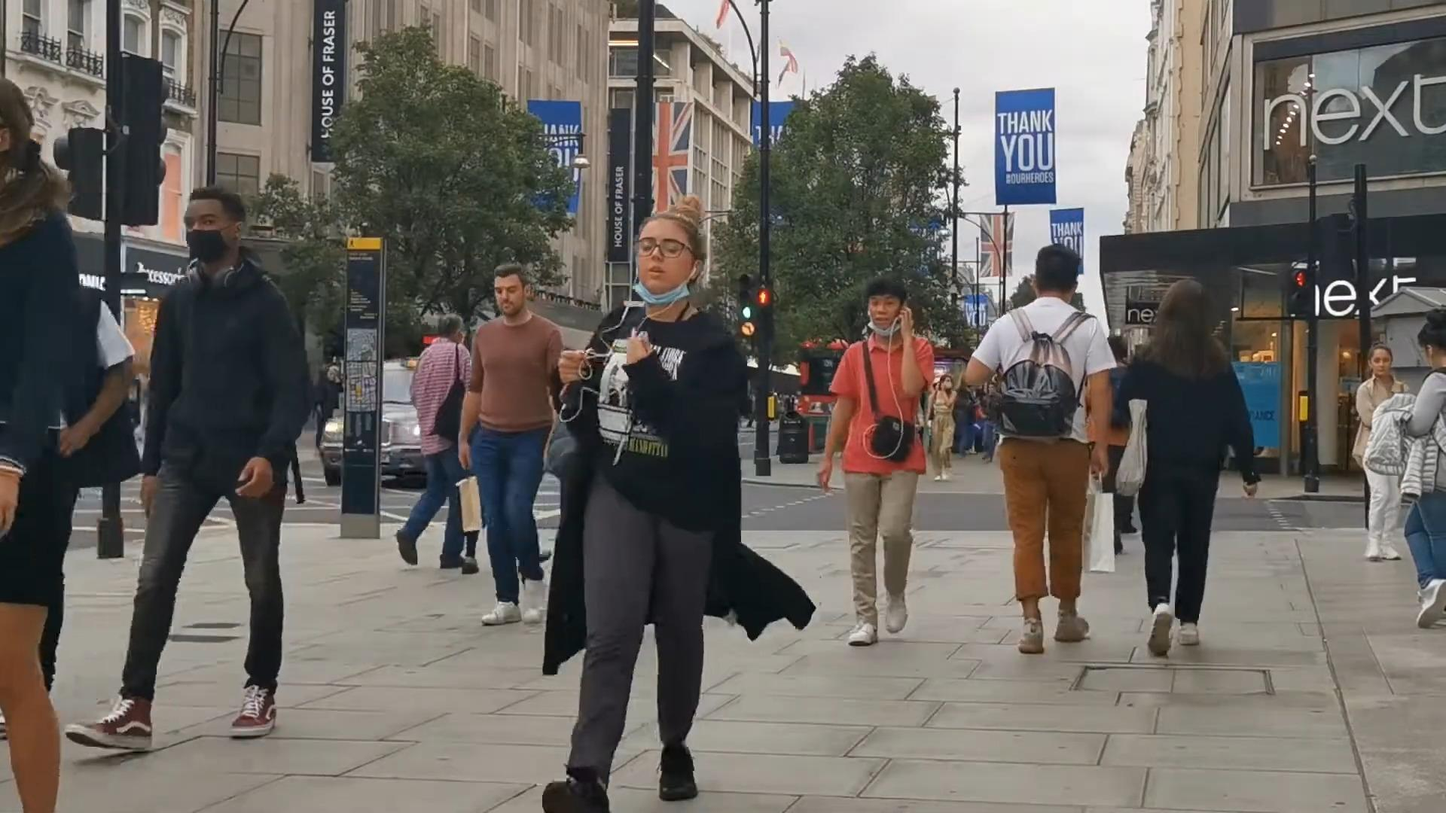no-helmet: (633, 195, 705, 305), (184, 185, 245, 264), (1155, 279, 1218, 343), (1031, 243, 1080, 305), (867, 273, 906, 338), (493, 264, 532, 318), (1417, 309, 1446, 369), (1367, 340, 1393, 376), (438, 314, 465, 344)
